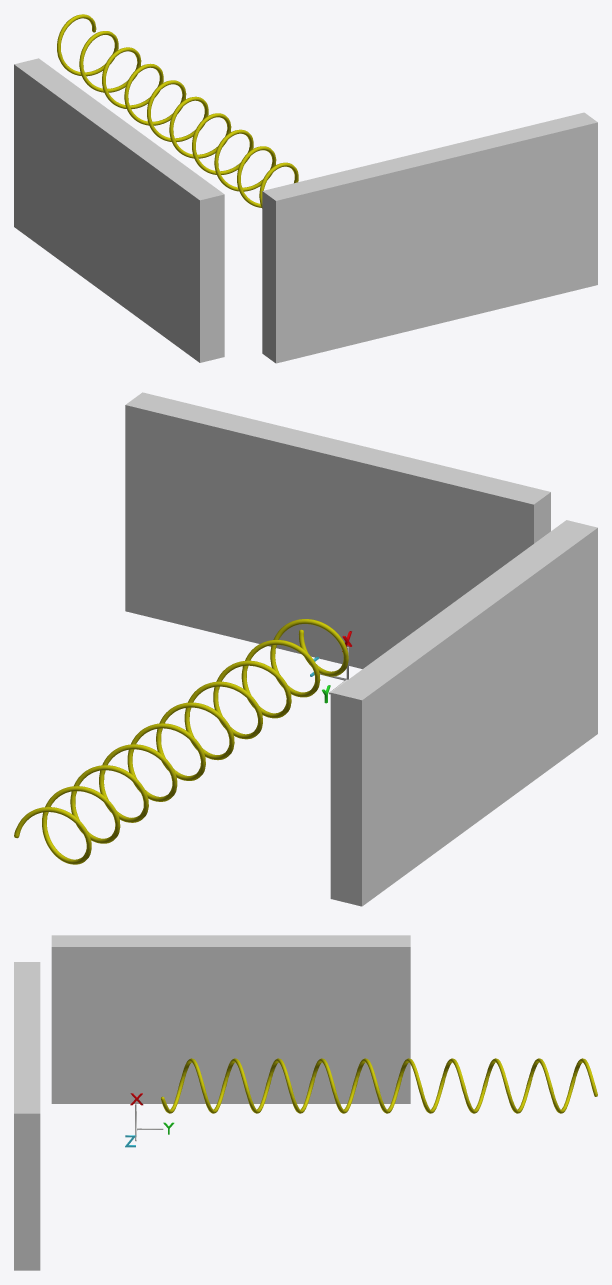
Rendered from aivoice.fbx.
The picture shows the model from 3 angles, top to bottom: view 1: azimuth 30°, elevation 25°; view 2: azimuth 150°, elevation 25°; view 3: azimuth 270°, elevation 25°; orthographic projection. The views are drawn at different scales.
Parts seen in each view (by area): view 1: Plane, Plane.001, Vert; view 2: Plane, Plane.001, Vert; view 3: Plane.001, Plane, Vert.
Part boxes in pixels (x1=…): Plane: x1=262, y1=112, x2=597, y2=363; Plane.001: x1=14, y1=58, x2=224, y2=362; Vert: x1=57, y1=14, x2=298, y2=208; Plane: x1=125, y1=392, x2=550, y2=668; Plane.001: x1=330, y1=520, x2=597, y2=906; Vert: x1=14, y1=619, x2=348, y2=864; Plane.001: x1=51, y1=935, x2=410, y2=1103; Plane: x1=14, y1=962, x2=40, y2=1270; Vert: x1=161, y1=1058, x2=597, y2=1113.
Size of the model in its own units: 1768 by 726 by 2447.
